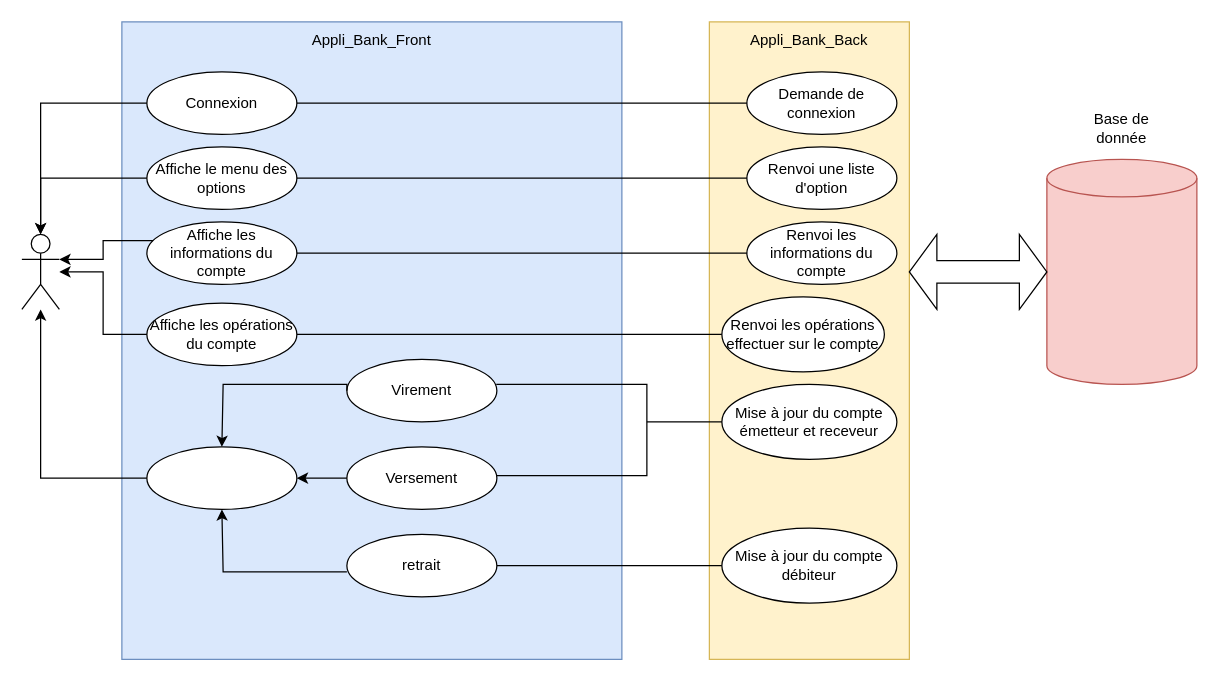
The diagram is 1219 pixels wide and 681 high, and some of its shapes have lost their labels. Each missing label, with the box of its shape:
Client: (21, 233, 59, 309)
Effectuer une opération: (146, 446, 297, 509)
